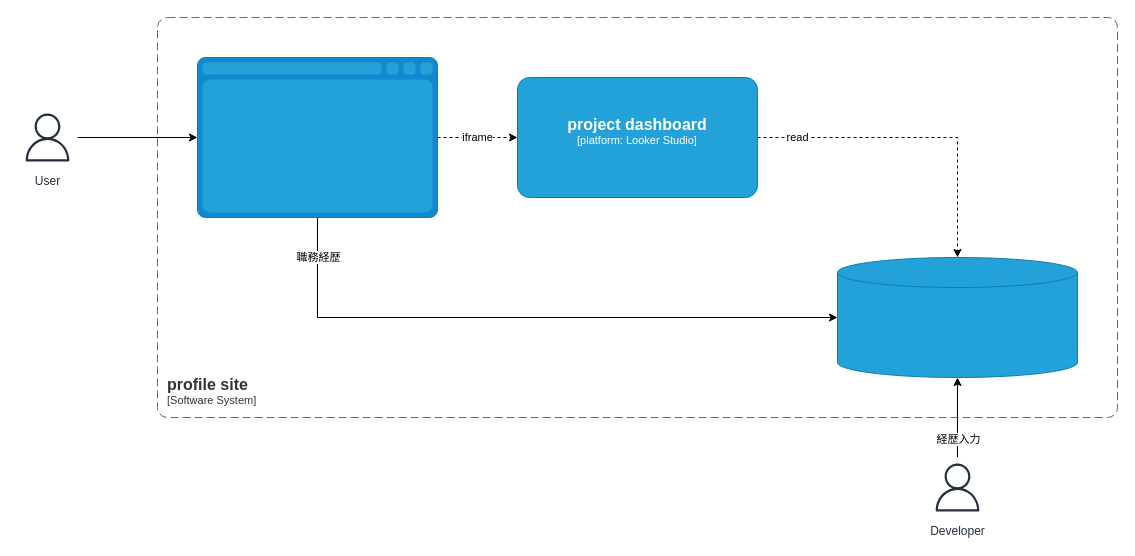
Image size: 1135x556. Some labels were removed from this diagram. The centre of each missing label's shape, as x and y in pixels:
"frontend [platform: GitHub Pages]" goes at pixel 317 137.
"職務経歴 [platform: Google Spreadsheet]" goes at pixel 957 317.
